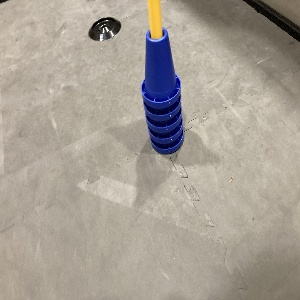Blue_5: (140, 26, 184, 154)
